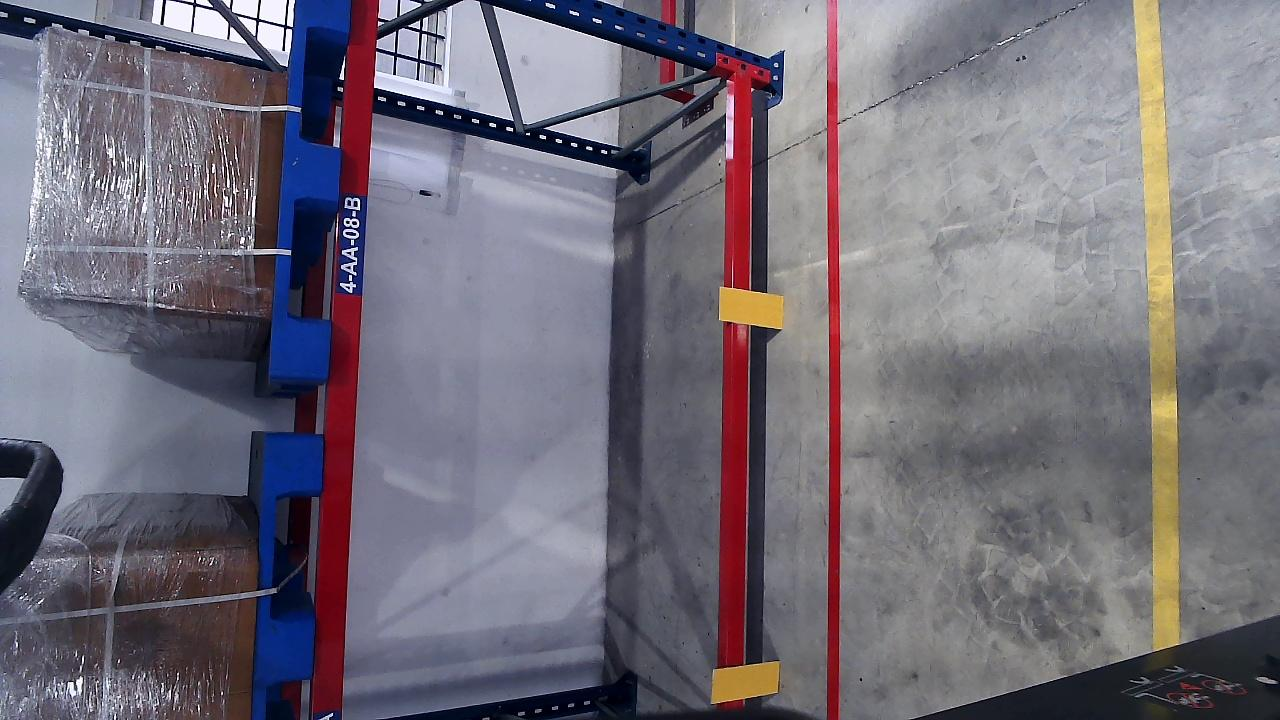h_rack: (309, 1, 379, 720), (725, 77, 758, 663)
orange_strip: (711, 660, 780, 702), (719, 285, 784, 328)
red_line: (254, 430, 328, 716), (822, 0, 844, 720)
yellow_line: (1135, 0, 1181, 654)
